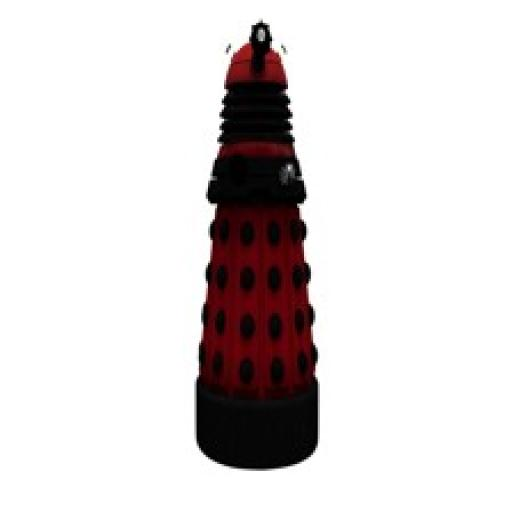dalek: (184, 22, 322, 469)
